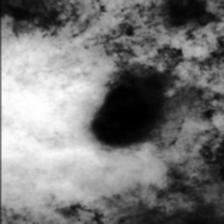Potentially Malignant Skin Tumors: (94, 92, 148, 142)
